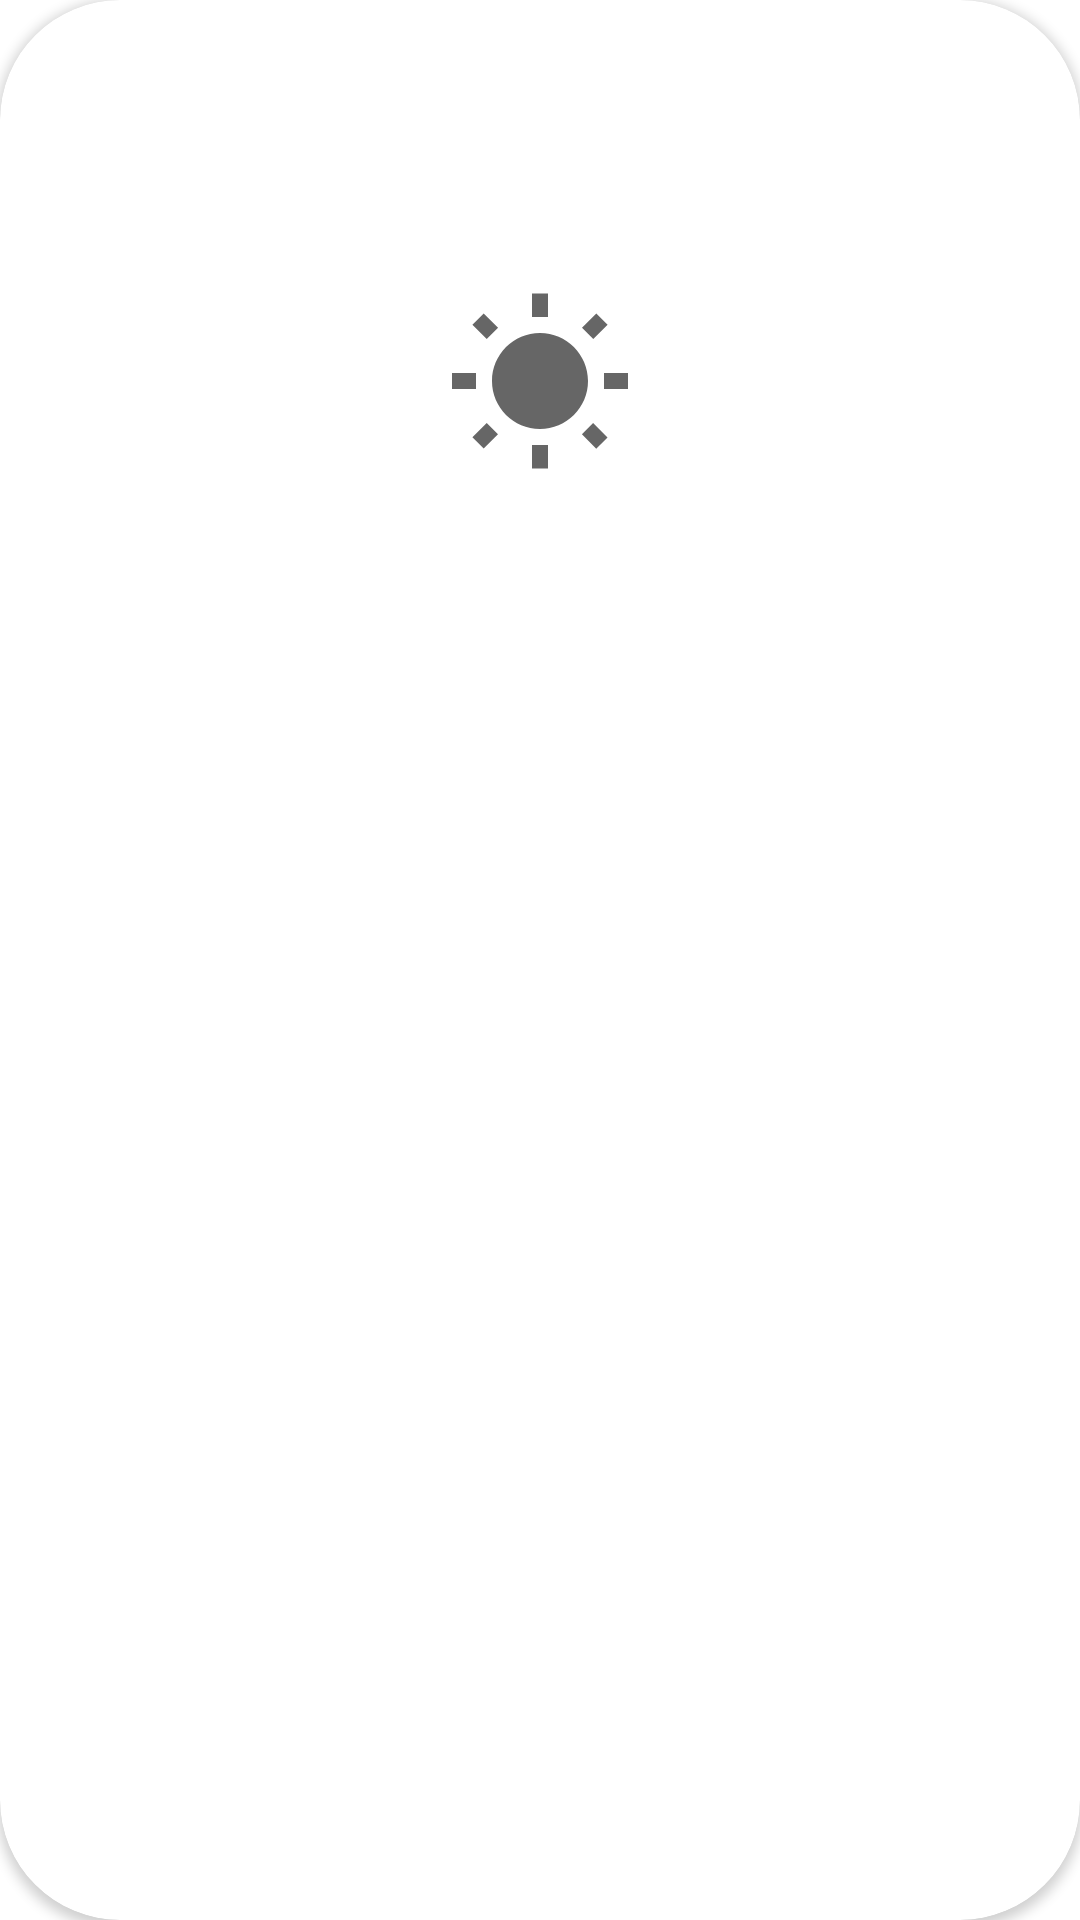

Icon click points for this 1080px x 1920px phone screenshot, format (x=x, y=y):
Weather Icon: (x=540, y=381)
